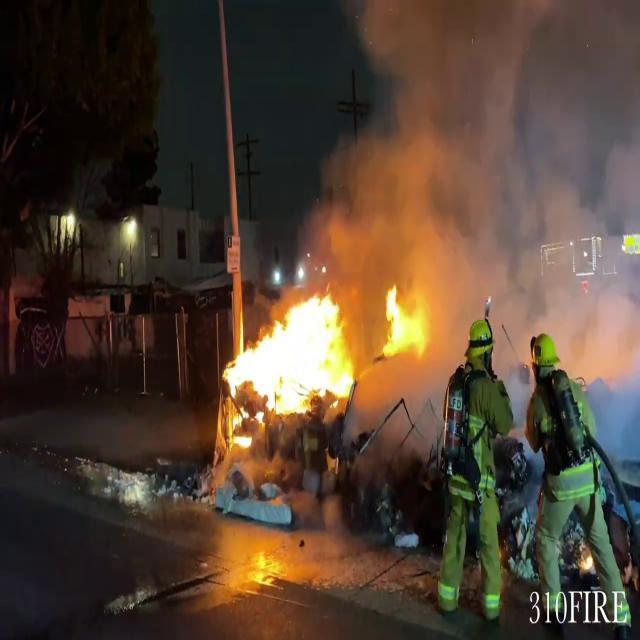Fire: (219, 285, 363, 439), (381, 280, 432, 360)
Smoke: (304, 0, 640, 306)
